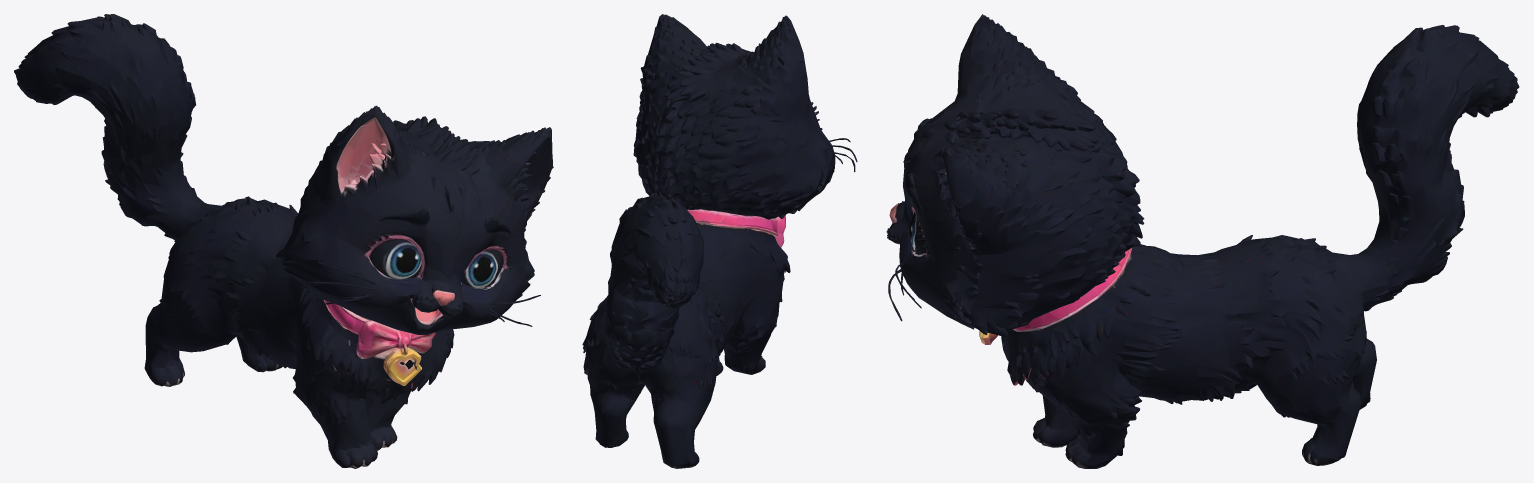
The model's file is mimi.glb.
The picture shows the model from 3 angles, left to right: view 1: azimuth 30°, elevation 25°; view 2: azimuth 150°, elevation 25°; view 3: azimuth 270°, elevation 25°; orthographic projection. The views are drawn at different scales.
Bounding box in the file's own units: 1.09 × 1.39 × 1.9.
Materials: 1 (1 with a texture image).
